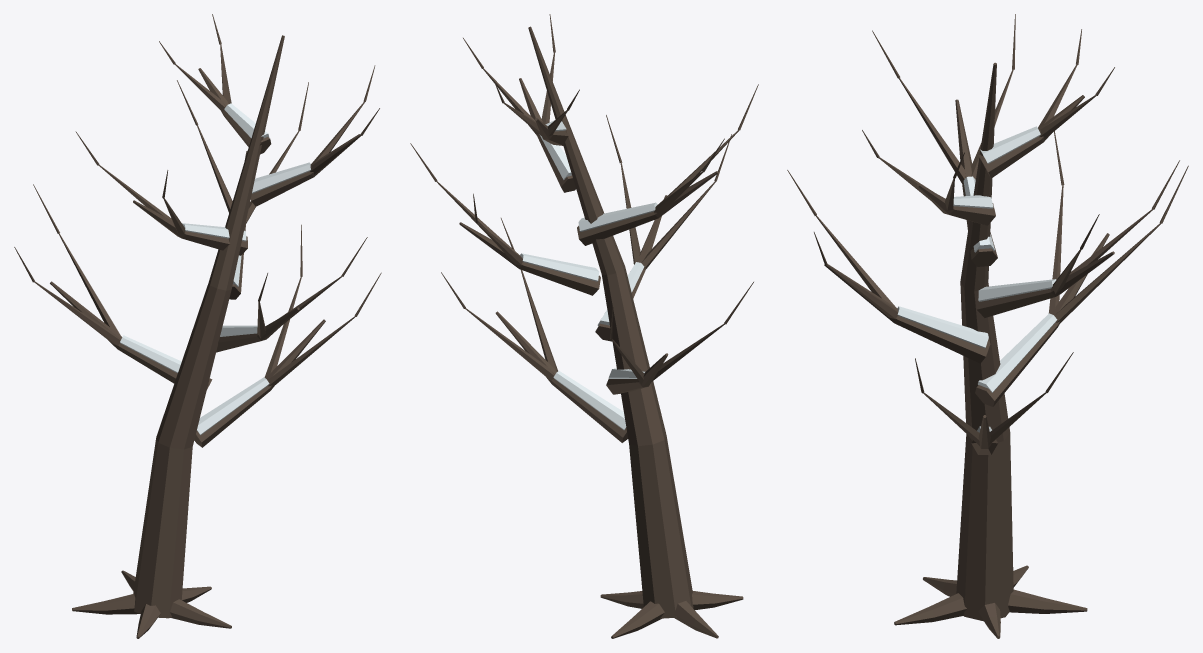
Rendered from TREE_16_TwistedWinter.glb.
3 renders of one model, left to right at view 1: azimuth 30°, elevation 25°; view 2: azimuth 150°, elevation 25°; view 3: azimuth 270°, elevation 25°, orthographic. The views are drawn at different scales.
Parts seen in each view (by area): view 1: TREE_16_TwistedWinter; view 2: TREE_16_TwistedWinter; view 3: TREE_16_TwistedWinter.
Part boxes in pixels (x1,y1,x2,y2): TREE_16_TwistedWinter: [14, 14, 381, 638]; TREE_16_TwistedWinter: [410, 14, 758, 638]; TREE_16_TwistedWinter: [787, 14, 1188, 638].
Bounding box in the file's own units: 4.9 × 7.85 × 4.61.
